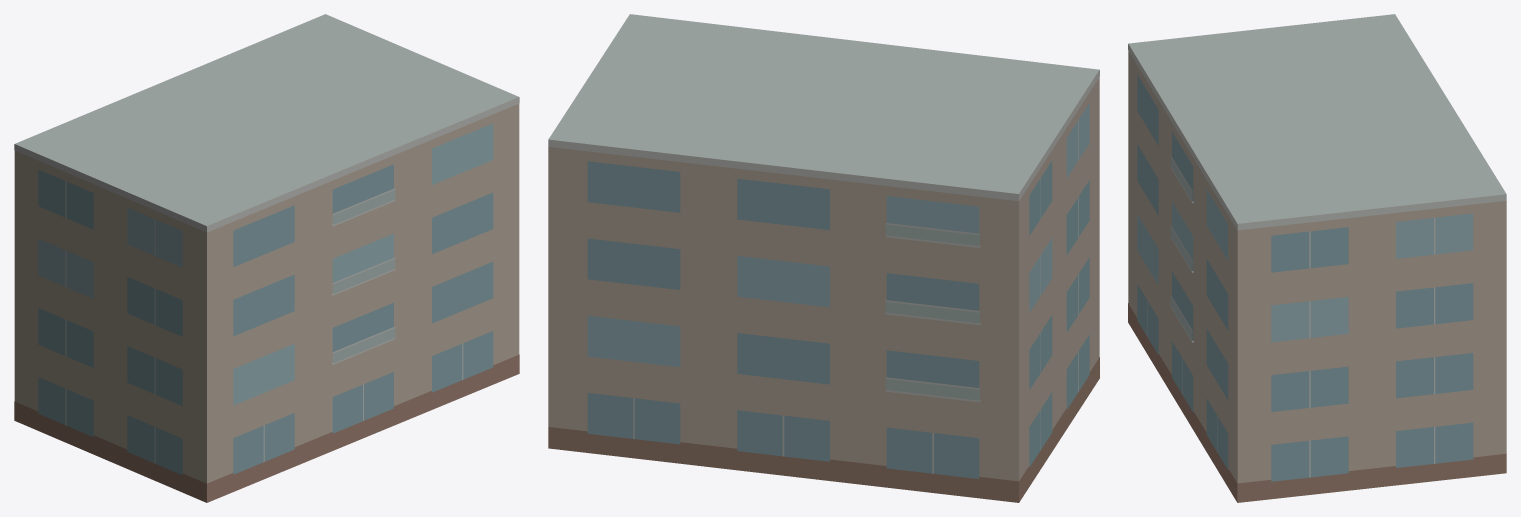
Rendered from survey-upis-33017333.glb.
The picture shows the model from 3 angles, left to right: view 1: azimuth 30°, elevation 25°; view 2: azimuth 150°, elevation 25°; view 3: azimuth 270°, elevation 25°; orthographic projection. The views are drawn at different scales.
Visible parts, largest first — view 1: survey-upis-33017333.tmp; view 2: survey-upis-33017333.tmp; view 3: survey-upis-33017333.tmp.
Boxes of the visible parts, x1=… form: survey-upis-33017333.tmp: x1=14, y1=14, x2=519, y2=502; survey-upis-33017333.tmp: x1=548, y1=14, x2=1099, y2=502; survey-upis-33017333.tmp: x1=1128, y1=14, x2=1506, y2=502.
Size of the model in its own units: 16.96 by 10.5 by 12.92.
